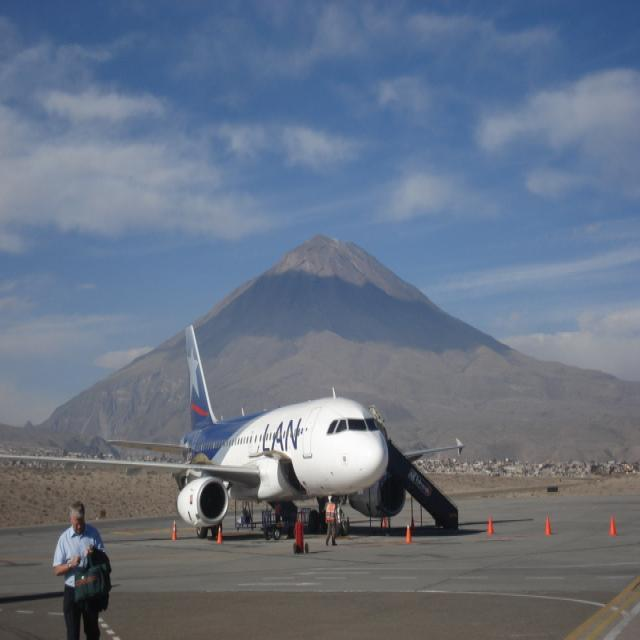airplane: (1, 321, 465, 540)
